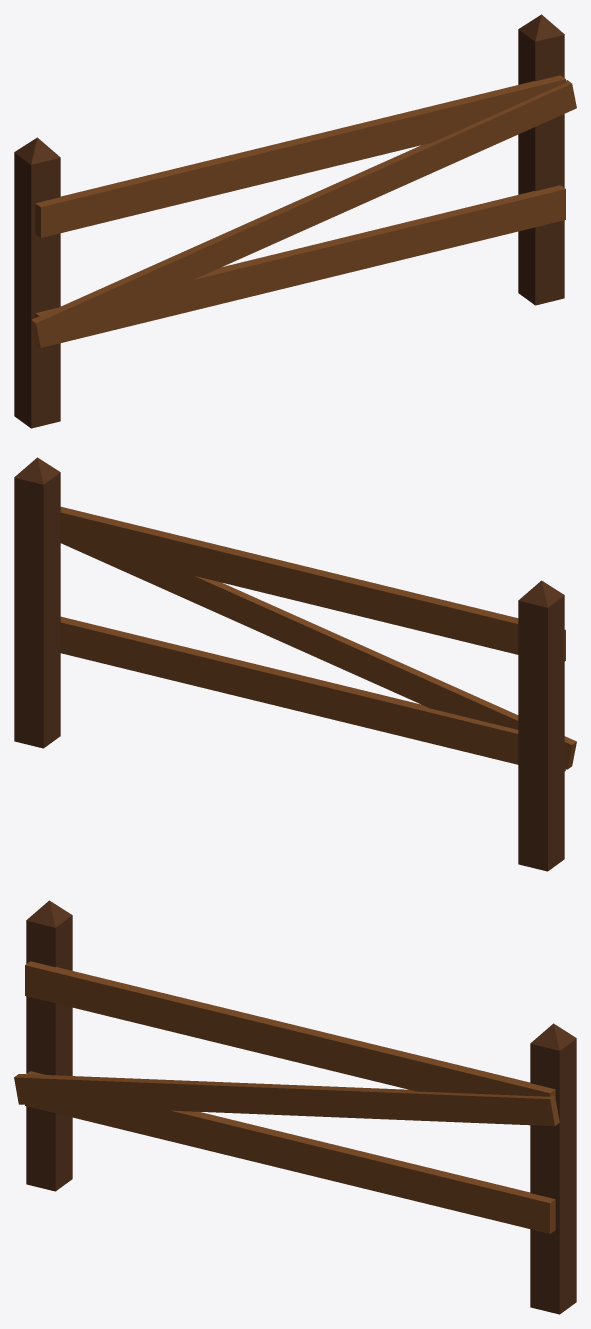
The model's file is Prop_Fence.fbx.
3 renders of one model, top to bottom at view 1: azimuth 30°, elevation 25°; view 2: azimuth 150°, elevation 25°; view 3: azimuth 330°, elevation 25°, orthographic.
Parts seen in each view (by area): view 1: Prop_Fence; view 2: Prop_Fence; view 3: Prop_Fence.
Boxes of the visible parts, <box> form: Prop_Fence: <box>14,14,576,428</box>; Prop_Fence: <box>14,457,576,871</box>; Prop_Fence: <box>14,900,576,1314</box>.
Size of the model in its own units: 2.58 by 1.28 by 0.2107.
